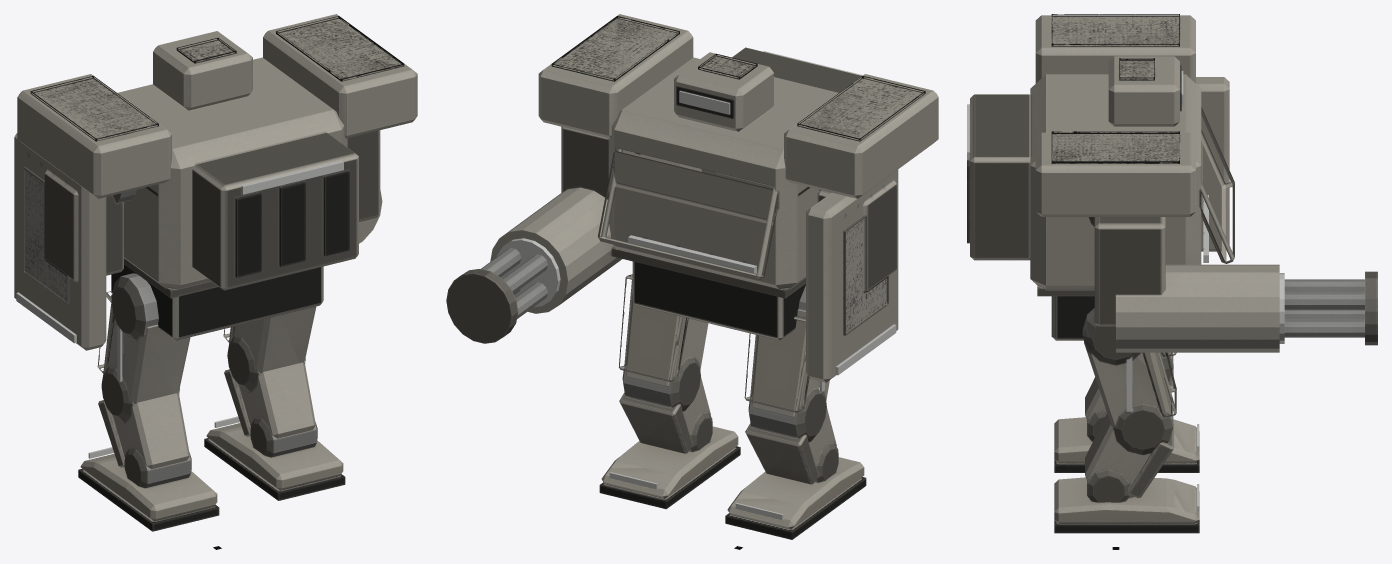
Rendered from ord_champion.fbx.
The picture shows the model from 3 angles, left to right: view 1: azimuth 30°, elevation 25°; view 2: azimuth 150°, elevation 25°; view 3: azimuth 270°, elevation 25°; orthographic projection. The views are drawn at different scales.
Visible parts, largest first — view 1: torso_bar, thighL_bar, base_bar, shinL_bar, shinR_bar, footL_bar, footR_bar, thighR_bar, torso_glow_power_bar, torso_glow_running_bar; view 2: torso_bar, thighR_bar, base_bar, thighL_bar, footL_bar, footR_bar, shinL_bar, shinR_bar, torso_glow_running_bar, torso_glow_power_bar, torso_glow_head_bar; view 3: torso_bar, thighR_bar, footR_bar, shinR_bar, footL_bar, base_bar, shinL_bar, torso_glow_power_bar.
Boxes of the visible parts, box(x1,y1,x2,y2) form: torso_bar: box(14, 14, 417, 350); thighL_bar: box(97, 273, 190, 422); base_bar: box(111, 264, 323, 340); shinL_bar: box(98, 393, 191, 488); shinR_bar: box(224, 362, 317, 457); footL_bar: box(78, 453, 219, 531); footR_bar: box(204, 423, 345, 500); thighR_bar: box(223, 306, 316, 392); torso_glow_power_bar: box(241, 161, 343, 194); torso_glow_running_bar: box(16, 292, 76, 343); torso_bar: box(446, 14, 938, 382); thighR_bar: box(619, 274, 708, 411); base_bar: box(632, 261, 805, 340); thighL_bar: box(744, 285, 829, 441); footL_bar: box(725, 457, 866, 539); footR_bar: box(599, 426, 740, 509); shinL_bar: box(745, 407, 838, 484); shinR_bar: box(619, 377, 712, 453); torso_glow_running_bar: box(628, 235, 896, 375); torso_glow_power_bar: box(497, 51, 862, 307); torso_glow_head_bar: box(679, 91, 729, 114); torso_bar: box(967, 14, 1377, 352); thighR_bar: box(1082, 308, 1176, 454); footR_bar: box(1054, 477, 1199, 533); shinR_bar: box(1085, 413, 1173, 502); footL_bar: box(1054, 417, 1199, 472); base_bar: box(1051, 296, 1094, 340); shinL_bar: box(1085, 364, 1173, 441); torso_glow_power_bar: box(967, 104, 1284, 343).
Size of the model in its own units: 1091 by 1564 by 1212.
Materials: 2 (2 with a texture image).
